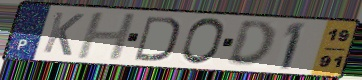1: (281, 21, 308, 71)
D: (224, 20, 276, 69), (132, 14, 182, 63)
H: (74, 12, 139, 61)
K: (40, 10, 87, 58)
O: (179, 16, 228, 67)
